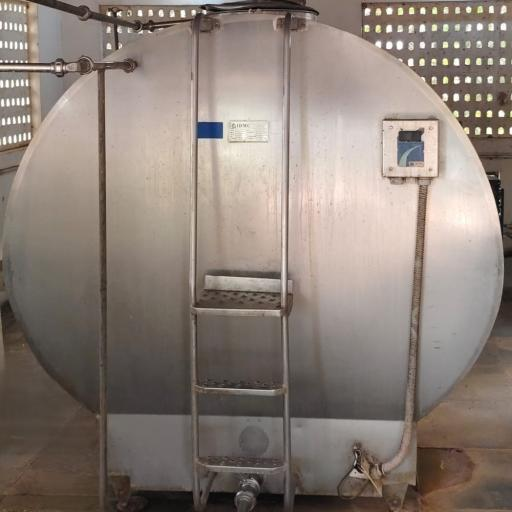silo: (3, 3, 510, 488)
